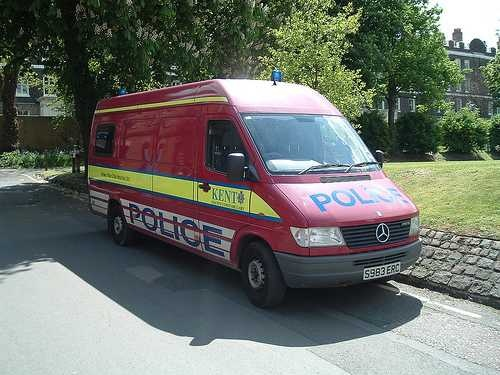Police Van: (80, 69, 432, 316)
